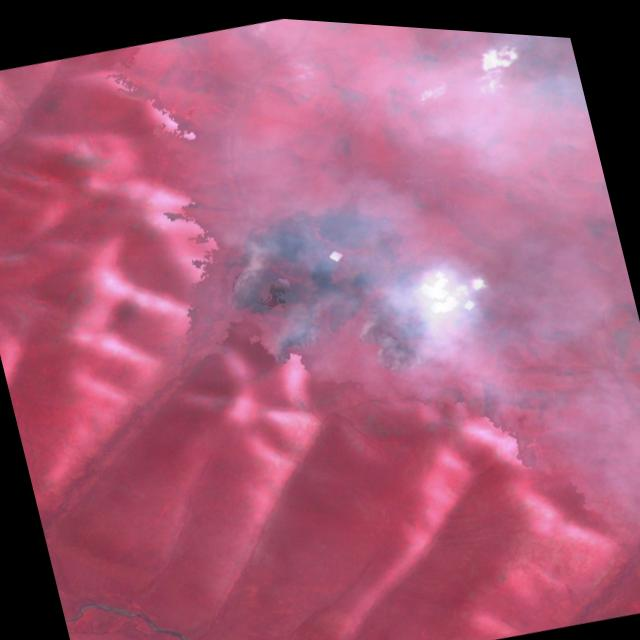fire: (207, 212, 448, 416)
